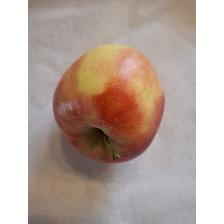Apfel: (52, 40, 166, 166)
